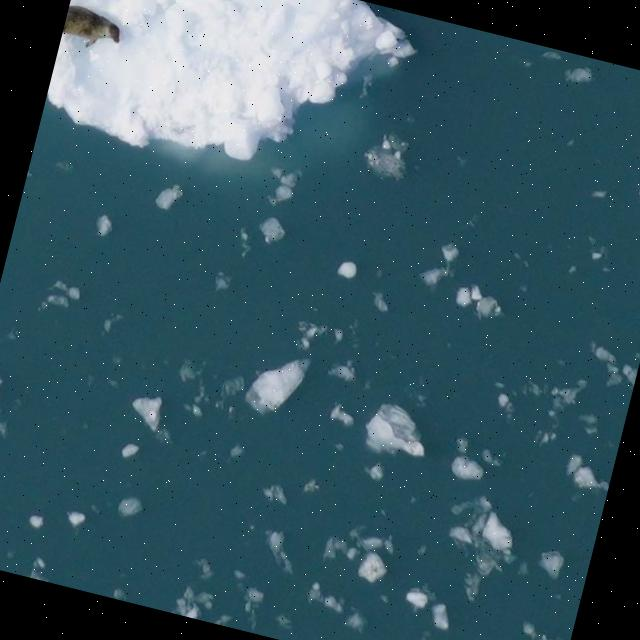seal: (62, 2, 120, 48)
